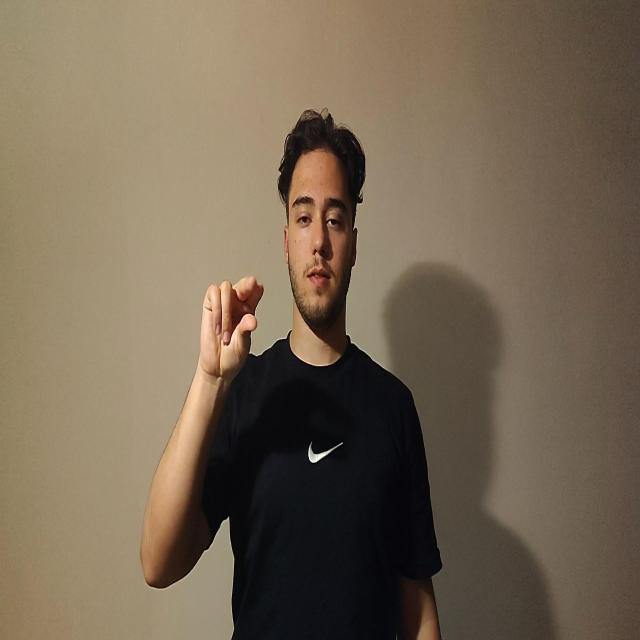no: (198, 274, 264, 382)
